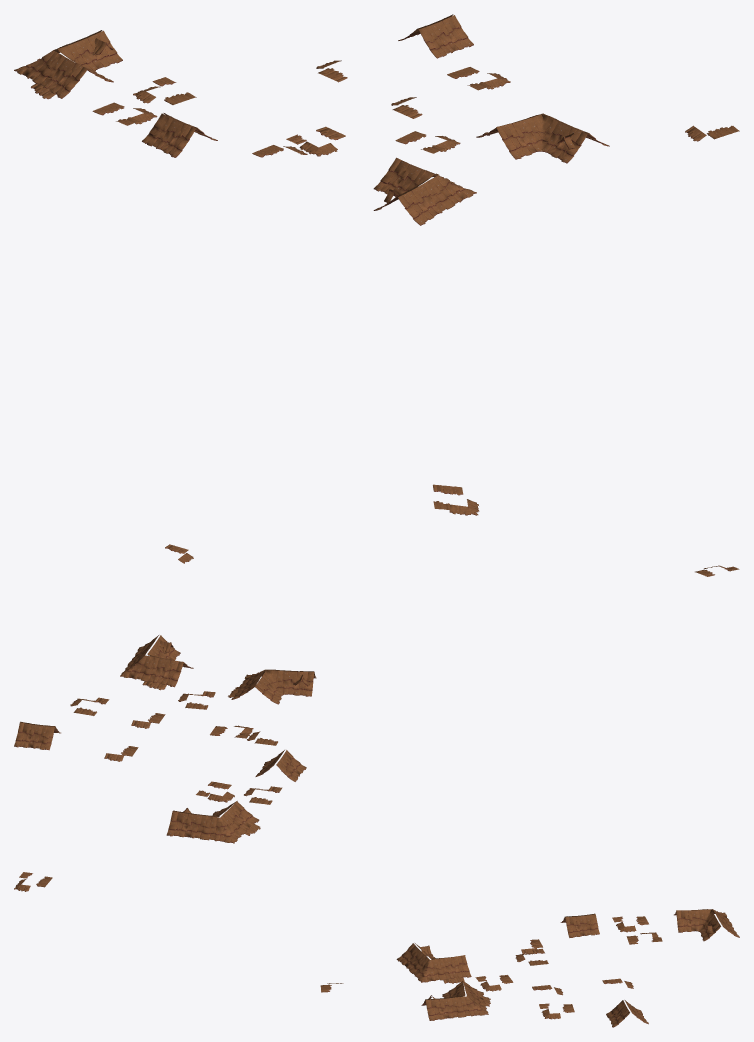
The model's file is WoodRoofBlock.FBX.
3 views of the same model, one above another, from view 1: azimuth 30°, elevation 25°; view 2: azimuth 150°, elevation 25°; view 3: azimuth 270°, elevation 25° (orthographic). The views are drawn at different scales.
Visible parts, largest first — view 1: Object2383; view 2: Object2383; view 3: Object2383.
Boxes of the visible parts, bbox=[...] form: Object2383: bbox=[14, 14, 739, 515]; Object2383: bbox=[14, 544, 739, 843]; Object2383: bbox=[14, 872, 739, 1027].
Size of the model in its own units: 314 by 47 by 577.
